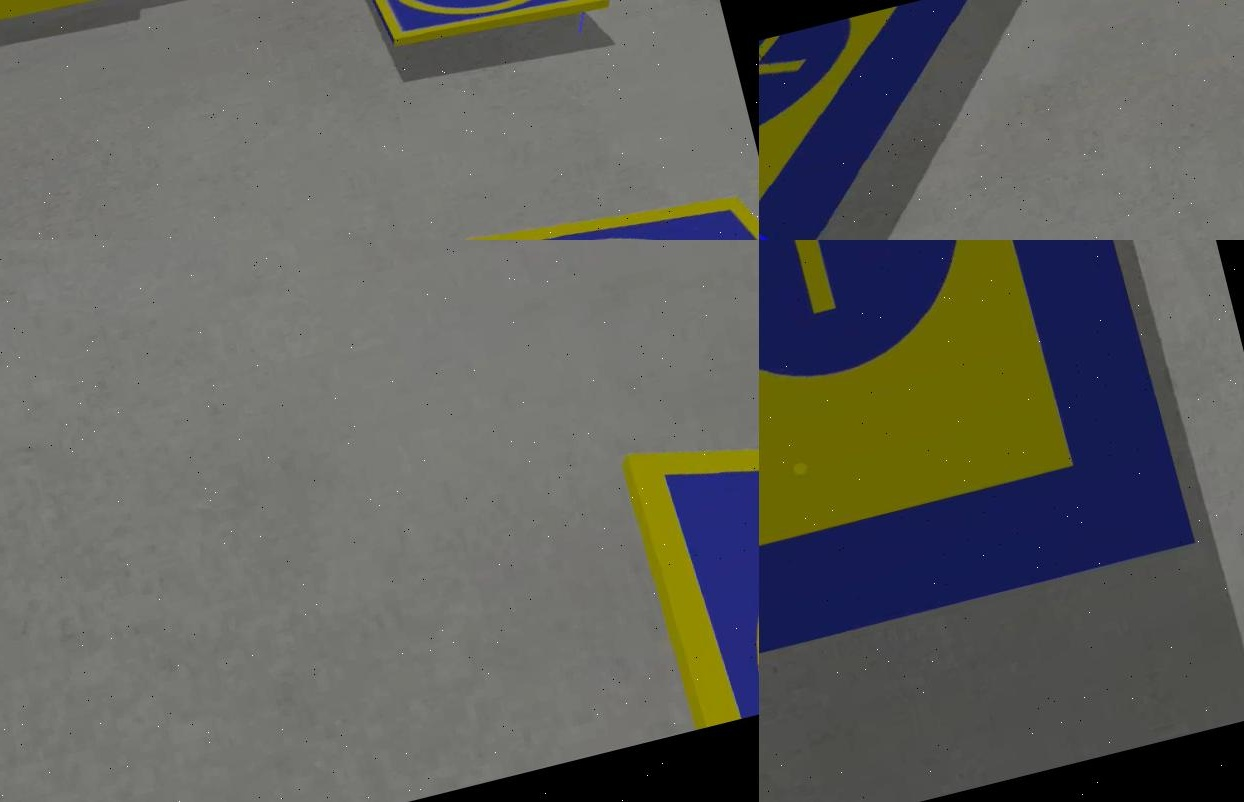large_base: (757, 241, 1198, 693), (757, 1, 1037, 241)
small_base: (614, 402, 757, 731), (354, 1, 606, 58)
